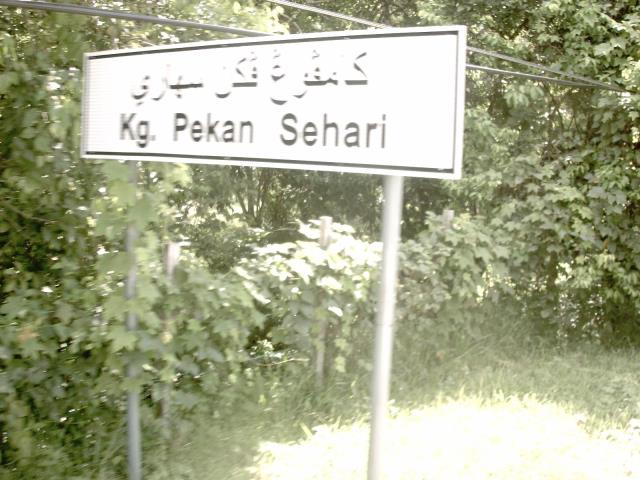ads_sign: (40, 11, 488, 211)
